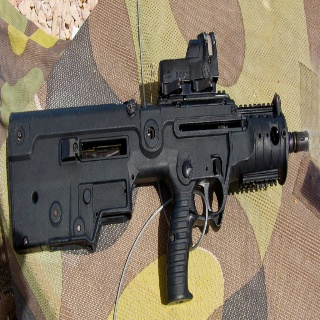rifle: (6, 30, 310, 307)
